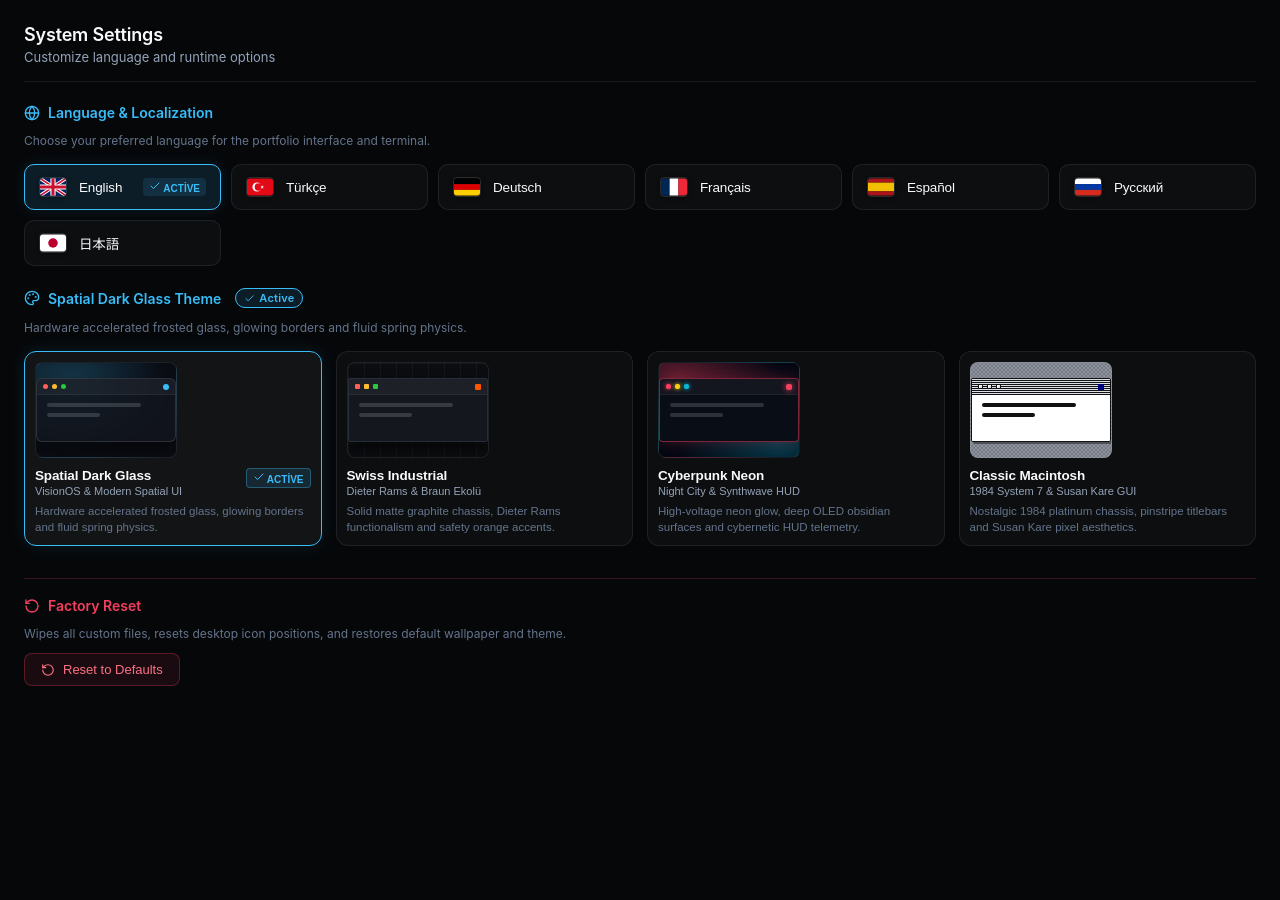
SettingsApp Component › should switch active language when a language card is clicked
Click the button "Türkçe" at (330, 187), box [231,164,428,210]
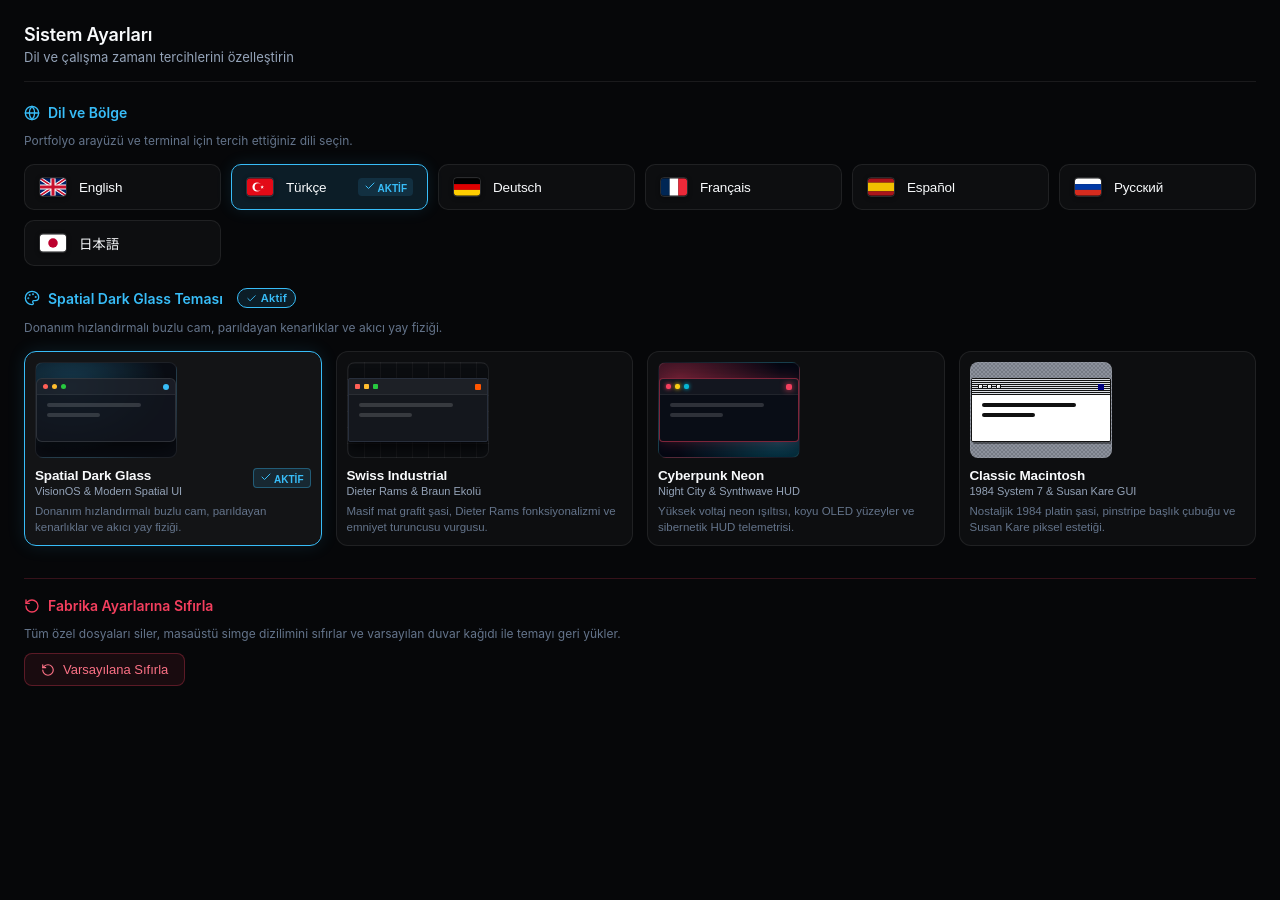
Check: the heading "Sistem Ayarları" is shown, box [24,24,152,45]
